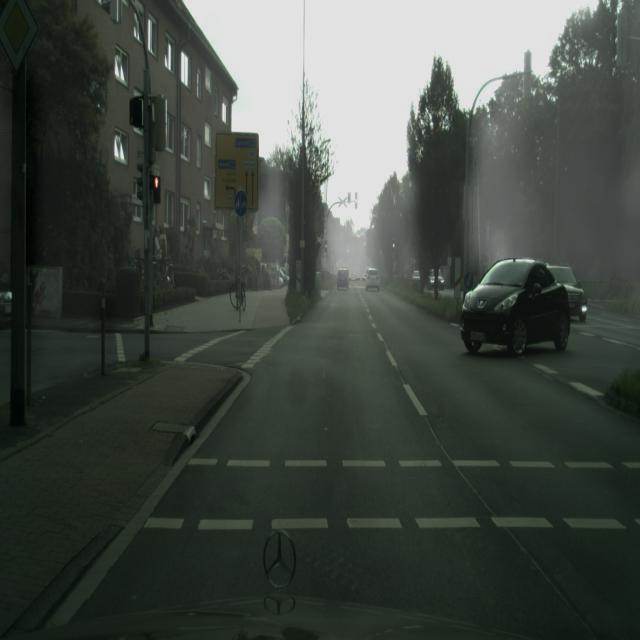car: (229, 276, 247, 312)
truck: (460, 258, 571, 356), (547, 262, 588, 322), (0, 271, 12, 328), (365, 268, 381, 291), (336, 266, 350, 291)
